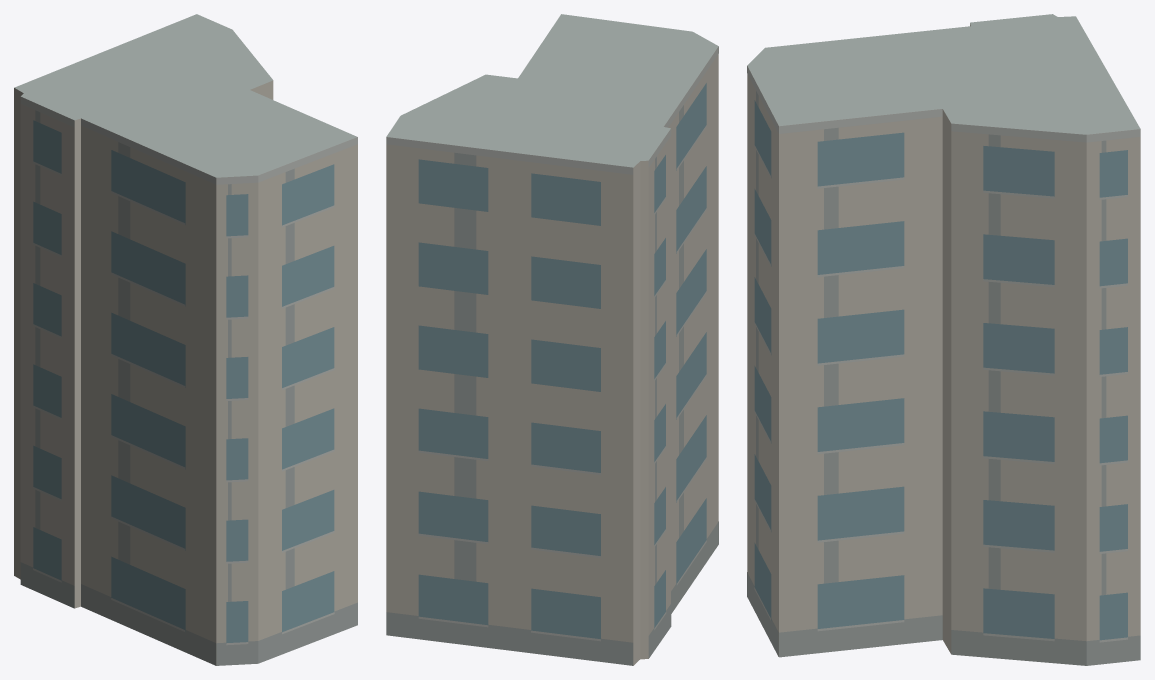
Rendered from survey-upis-32801390.glb.
The picture shows the model from 3 angles, left to right: view 1: azimuth 30°, elevation 25°; view 2: azimuth 150°, elevation 25°; view 3: azimuth 270°, elevation 25°; orthographic projection. The views are drawn at different scales.
Visible parts, largest first — view 1: survey-upis-32801390.tmp; view 2: survey-upis-32801390.tmp; view 3: survey-upis-32801390.tmp.
Part boxes in pixels (x1,y1,x2,y2): survey-upis-32801390.tmp: (14,14,357,665); survey-upis-32801390.tmp: (386,14,718,665); survey-upis-32801390.tmp: (747,14,1140,665).
Size of the model in its own units: 8.1 by 16.6 by 11.16.
